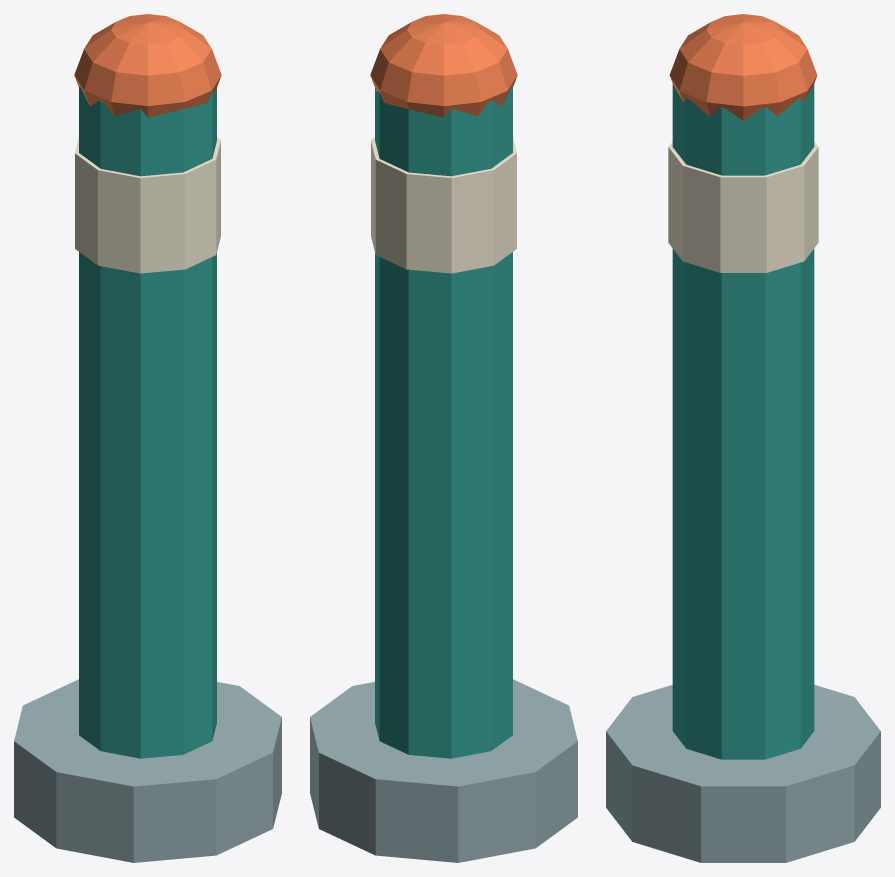
Rendered from bollard.glb.
3 renders of one model, left to right at view 1: azimuth 30°, elevation 25°; view 2: azimuth 150°, elevation 25°; view 3: azimuth 270°, elevation 25°, orthographic.
Visible parts, largest first — view 1: bollard.Root_Teal, bollard.Root_Steel, bollard.Root_Cream, bollard.Root_Orange; view 2: bollard.Root_Teal, bollard.Root_Steel, bollard.Root_Cream, bollard.Root_Orange; view 3: bollard.Root_Teal, bollard.Root_Steel, bollard.Root_Cream, bollard.Root_Orange.
Boxes of the visible parts, x1=… form: bollard.Root_Teal: x1=79, y1=85, x2=216, y2=758; bollard.Root_Steel: x1=14, y1=679, x2=281, y2=862; bollard.Root_Cream: x1=75, y1=137, x2=220, y2=273; bollard.Root_Orange: x1=74, y1=14, x2=221, y2=117; bollard.Root_Teal: x1=375, y1=85, x2=512, y2=758; bollard.Root_Steel: x1=310, y1=679, x2=577, y2=862; bollard.Root_Cream: x1=371, y1=137, x2=516, y2=273; bollard.Root_Orange: x1=370, y1=14, x2=517, y2=117; bollard.Root_Teal: x1=672, y1=84, x2=814, y2=759; bollard.Root_Steel: x1=606, y1=685, x2=880, y2=862; bollard.Root_Cream: x1=668, y1=142, x2=818, y2=272; bollard.Root_Orange: x1=669, y1=14, x2=817, y2=120.
Bounding box in the file's own units: 0.2473 × 0.82 × 0.26.
